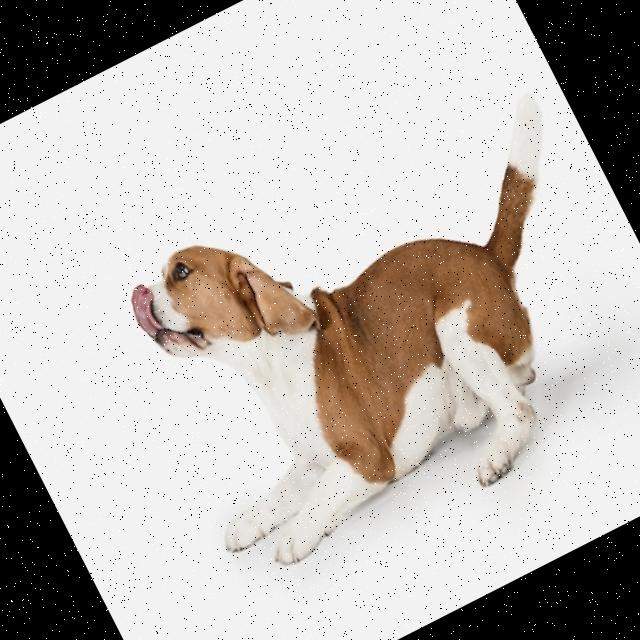Dog: (94, 72, 640, 606)
